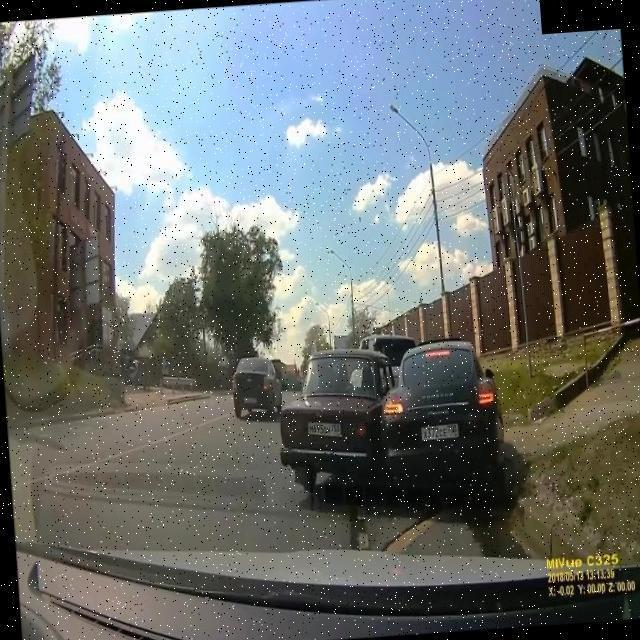accident: (271, 329, 514, 518)
